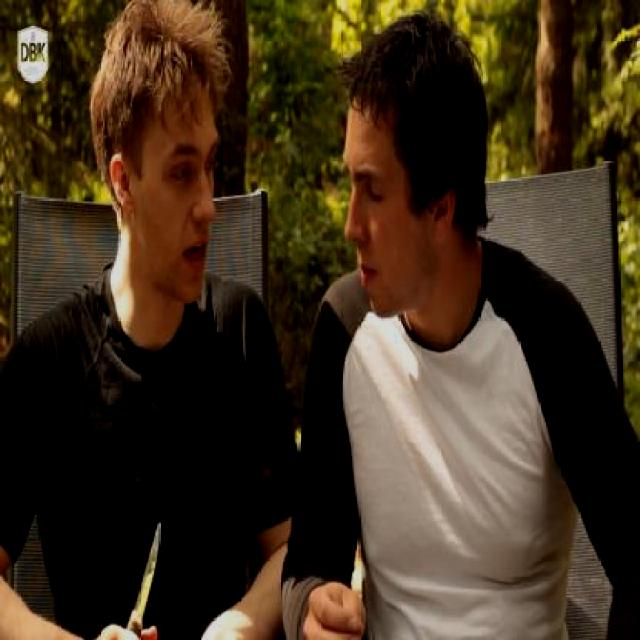knife: (110, 503, 172, 640)
